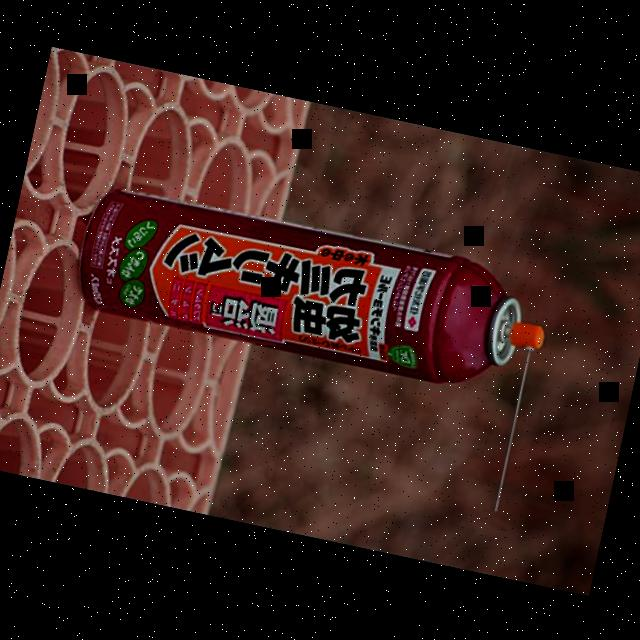chemical_spray_can: (50, 144, 579, 430)
